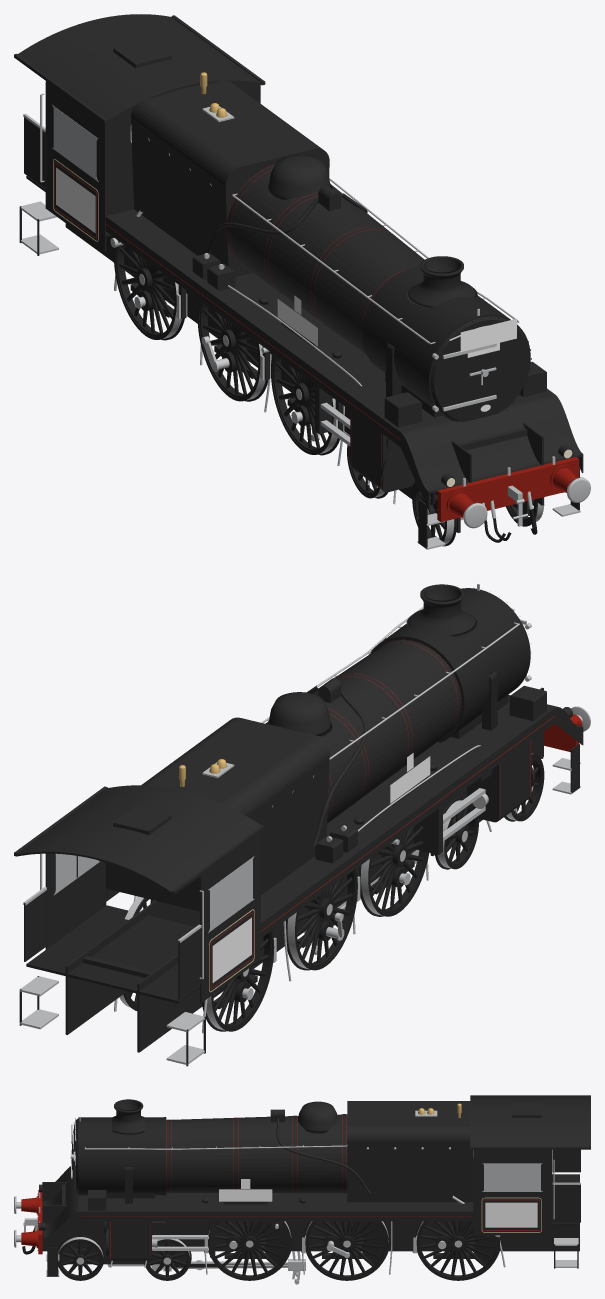
File: engine_lod0.glb
3 renders of one model, top to bottom at view 1: azimuth 30°, elevation 25°; view 2: azimuth 150°, elevation 25°; view 3: azimuth 270°, elevation 25°, orthographic. The views are drawn at different scales.
Visible parts, largest first — view 1: engine_static_paint_black, engine_static_smokebox, engine_static_steel, engine_static_paint_red, ws_trail_wheel, ws_drive_wheel, ws_lead_wheel, engine_static_decal_cabnum, engine_static_lining_red, engine_static_decal_headboard, cab_gate_R_paint_black, ws_bogieFront_wheel (+1 smaller); view 2: engine_static_paint_black, engine_static_smokebox, engine_static_steel, ws_drive_wheel, ws_lead_wheel, ws_trail_wheel, engine_static_decal_cabnum, ws_bogieRear_wheel, engine_static_lining_red, cab_gate_R_paint_black, cab_gate_L_paint_black, ws_bogieFront_wheel (+3 smaller); view 3: engine_static_paint_black, engine_static_smokebox, engine_static_steel, ws_drive_wheel, ws_lead_wheel, ws_trail_wheel, engine_static_decal_cabnum, ws_bogieFront_wheel, engine_static_lining_red, cab_gate_L_paint_black, ws_bogieRear_wheel, engine_static_paint_red (+5 smaller).
Part boxes in pixels (x1,y1,x2,y2): engine_static_paint_black: (14, 14, 583, 548); engine_static_smokebox: (26, 175, 531, 422); engine_static_steel: (20, 93, 590, 549); engine_static_paint_red: (437, 457, 579, 522); ws_trail_wheel: (114, 240, 186, 340); ws_drive_wheel: (197, 300, 267, 401); ws_lead_wheel: (271, 355, 339, 455); engine_static_decal_cabnum: (56, 167, 95, 233); engine_static_lining_red: (54, 162, 404, 489); engine_static_decal_headboard: (460, 318, 516, 351); cab_gate_R_paint_black: (24, 117, 45, 188); ws_bogieFront_wheel: (412, 483, 544, 546); engine_static_paint_black: (14, 640, 583, 1066); engine_static_smokebox: (26, 584, 530, 1003); engine_static_steel: (19, 584, 590, 1064); ws_drive_wheel: (285, 869, 357, 970); ws_lead_wheel: (359, 825, 429, 916); ws_trail_wheel: (123, 898, 274, 1031); engine_static_decal_cabnum: (212, 917, 251, 982); ws_bogieRear_wheel: (435, 798, 478, 869); engine_static_lining_red: (210, 639, 554, 988); cab_gate_R_paint_black: (178, 928, 200, 999); cab_gate_L_paint_black: (24, 890, 46, 961); ws_bogieFront_wheel: (504, 753, 544, 821); engine_static_paint_black: (39, 1095, 590, 1276); engine_static_smokebox: (71, 1099, 579, 1225); engine_static_steel: (14, 1110, 578, 1276); ws_drive_wheel: (305, 1221, 390, 1280); ws_lead_wheel: (207, 1221, 292, 1280); ws_trail_wheel: (416, 1221, 501, 1280); engine_static_decal_cabnum: (485, 1202, 537, 1227); ws_bogieFront_wheel: (58, 1235, 104, 1280); engine_static_lining_red: (81, 1114, 539, 1260); cab_gate_L_paint_black: (552, 1185, 580, 1222); ws_bogieRear_wheel: (143, 1239, 191, 1280); engine_static_paint_red: (21, 1190, 42, 1254).
Bounding box in the file's own units: 2.82 × 4.43 × 12.64.
